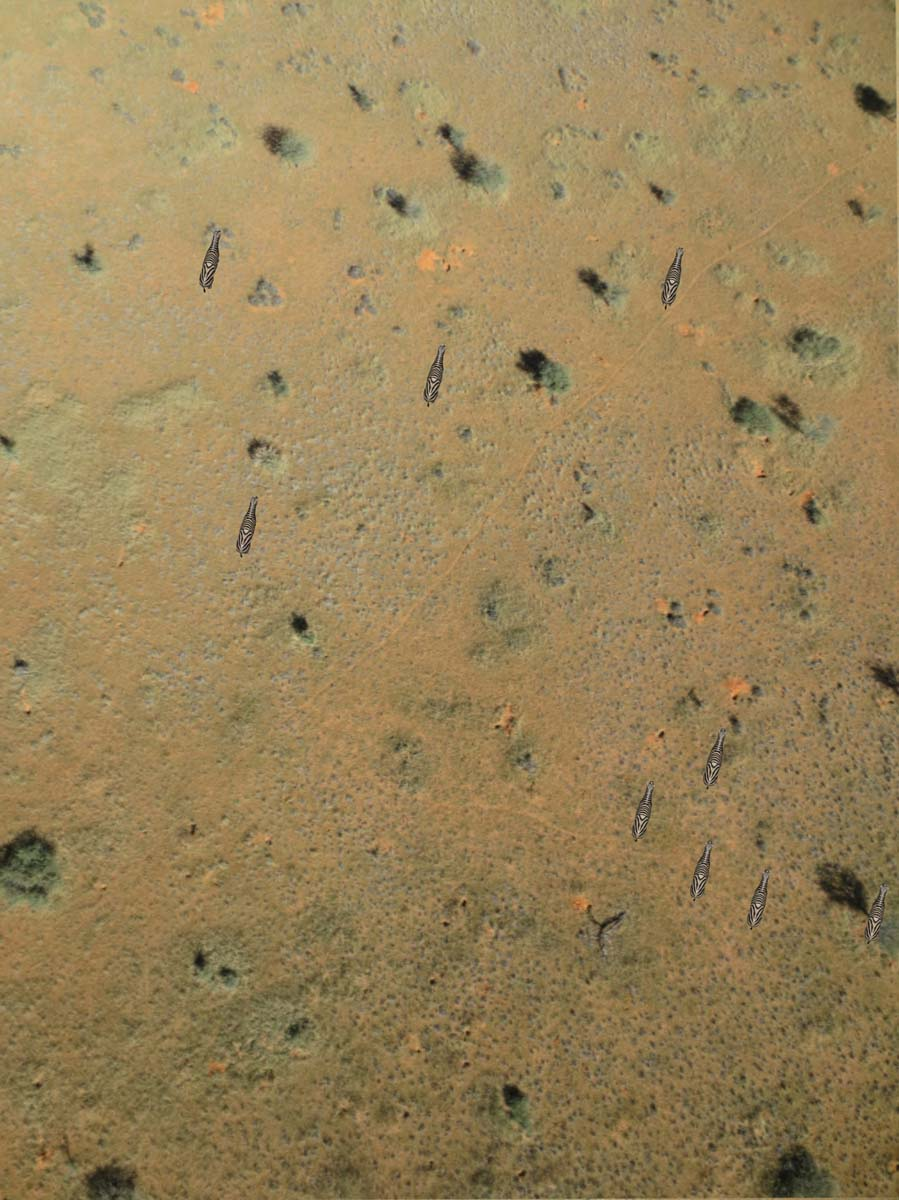zebra: (194, 222, 231, 296), (421, 337, 458, 411), (229, 488, 266, 562), (653, 238, 690, 312), (623, 779, 660, 853), (697, 723, 734, 797), (685, 831, 722, 905), (743, 860, 780, 934), (857, 878, 894, 952)
